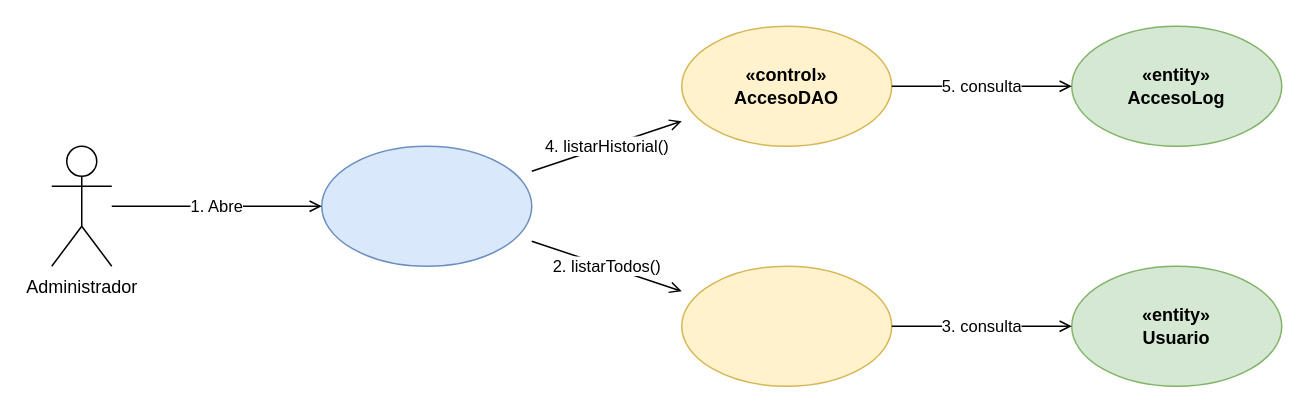
Image size: 1308x413. Some labels were removed from this diagram. The shapes that lost their labels are listed below. From the top down, each one's centre as x and y in pixels, then its label:
the point at 426,205: «boundary» HistorialAccesosFX
the point at 786,325: «control» UsuarioDAO
